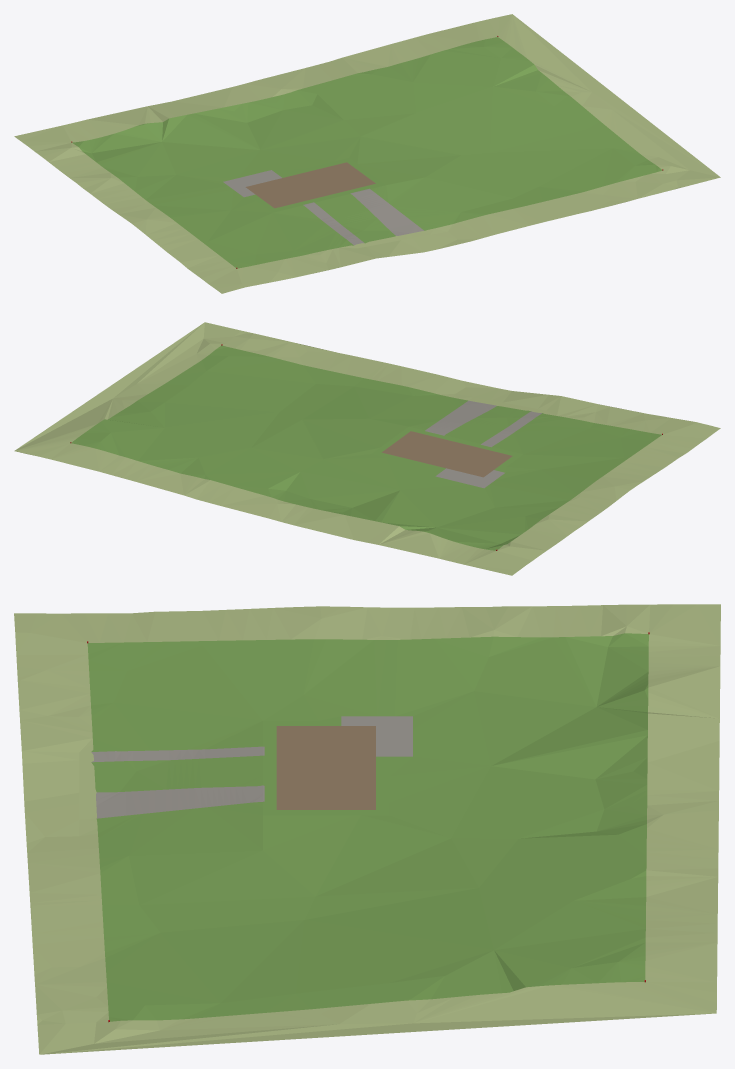
The model's file is teren.obj.
3 views of the same model, one above another, from view 1: azimuth 30°, elevation 25°; view 2: azimuth 150°, elevation 25°; view 3: azimuth 270°, elevation 25° (orthographic). The views are drawn at different scales.
Visible parts, largest first — view 1: Teren_–_działka, Teren_–_otoczenie, Teren_–_pod_budynkami, Teren_–_utwardzenia; view 2: Teren_–_działka, Teren_–_otoczenie, Teren_–_pod_budynkami, Teren_–_utwardzenia; view 3: Teren_–_działka, Teren_–_otoczenie, Teren_–_pod_budynkami, Teren_–_utwardzenia.
Boxes of the visible parts, box(x1,y1,x2,y2) form: Teren_–_działka: box(72, 37, 662, 268); Teren_–_otoczenie: box(14, 14, 720, 293); Teren_–_pod_budynkami: box(245, 162, 375, 208); Teren_–_utwardzenia: box(223, 170, 424, 245); Teren_–_działka: box(71, 345, 661, 550); Teren_–_otoczenie: box(14, 322, 720, 575); Teren_–_pod_budynkami: box(382, 431, 512, 477); Teren_–_utwardzenia: box(425, 400, 541, 488); Teren_–_działka: box(87, 633, 648, 1021); Teren_–_otoczenie: box(14, 604, 720, 1054); Teren_–_pod_budynkami: box(276, 726, 375, 809); Teren_–_utwardzenia: box(91, 716, 412, 818).
Bounding box in the file's own units: 83.06 × 3.6 × 59.08.
